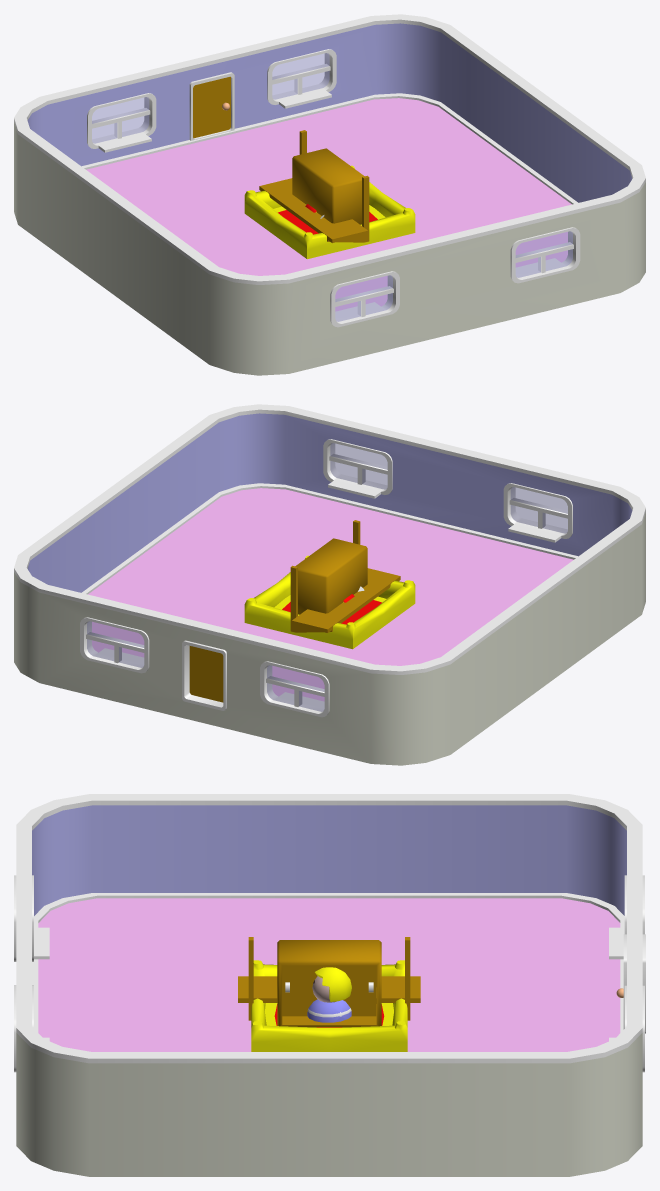
The model's file is Room.glb.
3 renders of one model, top to bottom at view 1: azimuth 30°, elevation 25°; view 2: azimuth 150°, elevation 25°; view 3: azimuth 270°, elevation 25°, orthographic. The views are drawn at different scales.
Parts seen in each view (by area): view 1: Room, Windows, BallPit, Wardrobe, BookShelf, Door; view 2: Room, Windows, BallPit, Wardrobe, BookShelf, Door; view 3: Room, BallPit, Wardrobe, BookShelf, Windows, Player, WardrobeRight, WardrobeLeft.
Boxes of the visible parts, bbox=[...] form: Room: bbox=[14, 14, 645, 375]; Windows: bbox=[87, 49, 580, 327]; BallPit: bbox=[244, 165, 415, 259]; Wardrobe: bbox=[292, 148, 364, 224]; BookShelf: bbox=[259, 130, 369, 242]; Door: bbox=[193, 76, 230, 138]; Room: bbox=[14, 404, 645, 765]; Windows: bbox=[80, 439, 572, 717]; BallPit: bbox=[244, 555, 415, 649]; Wardrobe: bbox=[295, 538, 367, 614]; BookShelf: bbox=[290, 520, 400, 632]; Door: bbox=[189, 646, 223, 702]; Room: bbox=[16, 794, 645, 1176]; BallPit: bbox=[251, 960, 407, 1051]; Wardrobe: bbox=[277, 940, 381, 1027]; BookShelf: bbox=[238, 937, 420, 1020]; Windows: bbox=[14, 875, 644, 1072]; Player: bbox=[307, 967, 351, 1022]; WardrobeRight: bbox=[282, 965, 329, 1016]; WardrobeLeft: bbox=[329, 965, 376, 1016].
Size of the model in its own units: 24 by 5 by 24.22.
